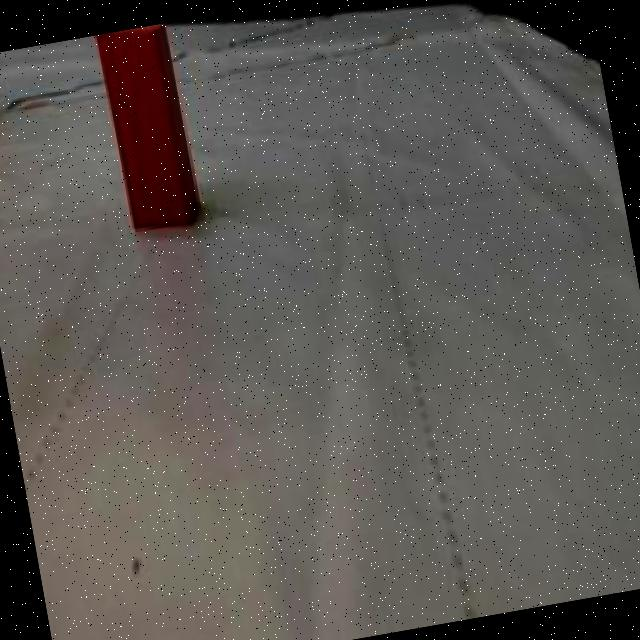redbox: (96, 22, 204, 238)
